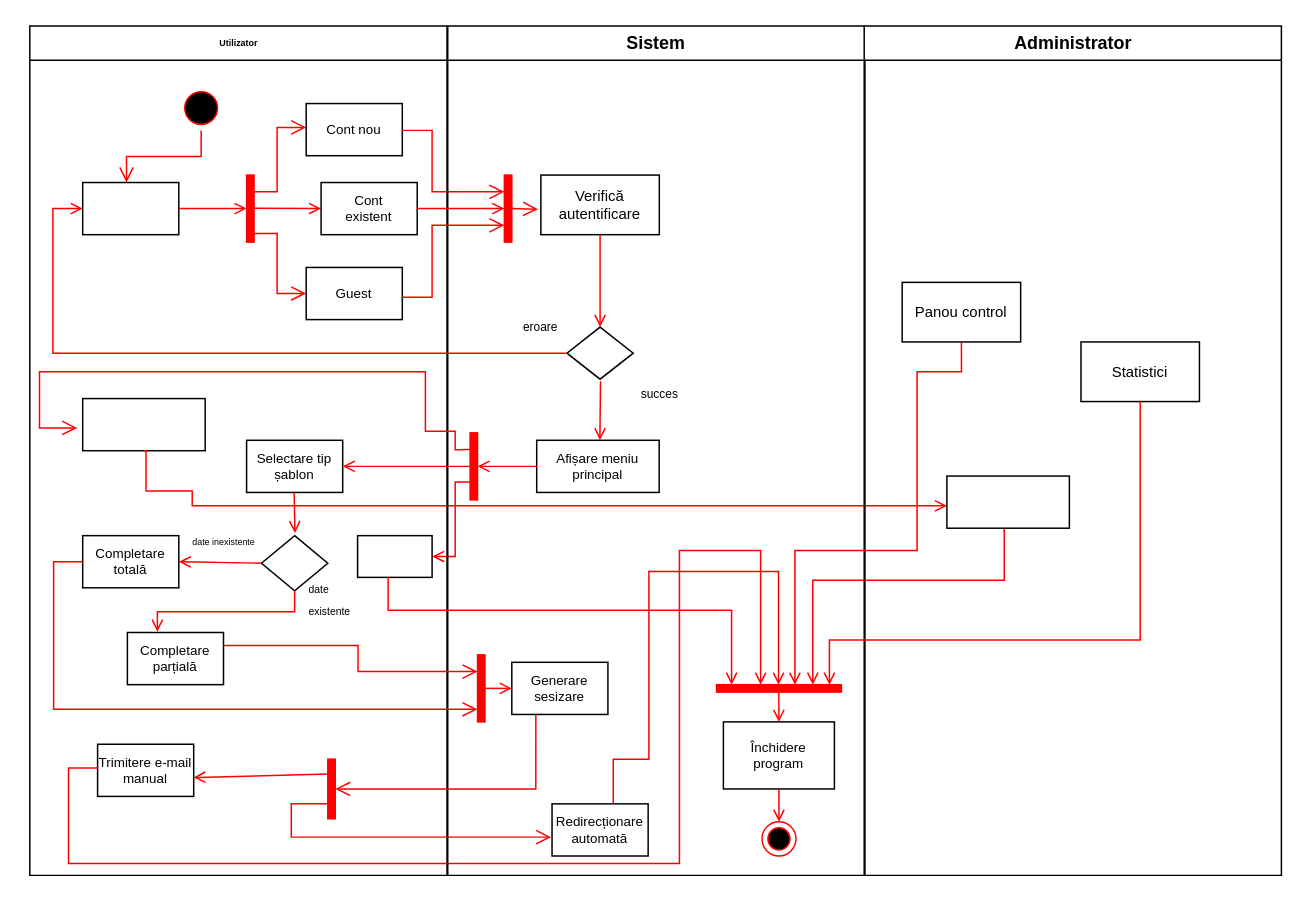
The diagram is 1308 pixels wide and 901 high, and some of its shapes have lost their labels. The centre of each missing label's shape, as x and y in pixels:
"Autentificare" goes at point 130,208.
"Feedback" goes at point 143,424.
"Ghid" goes at point 394,555.
"Primire mesaj" goes at point 1007,501.
